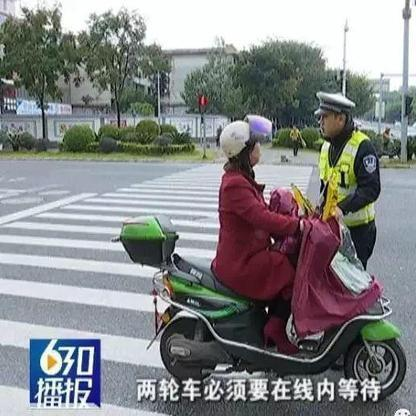target: (116, 112, 406, 400)
